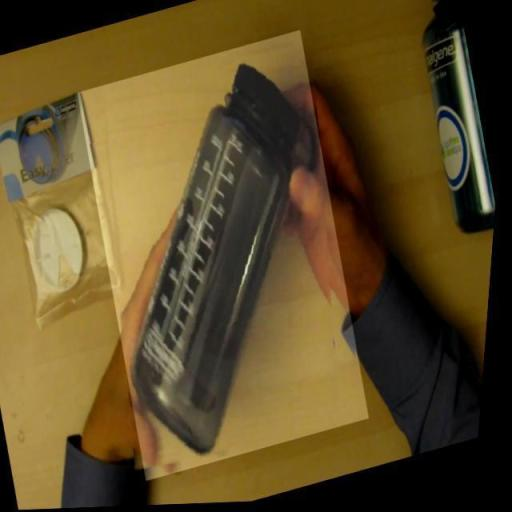bottle: (56, 29, 398, 485)
